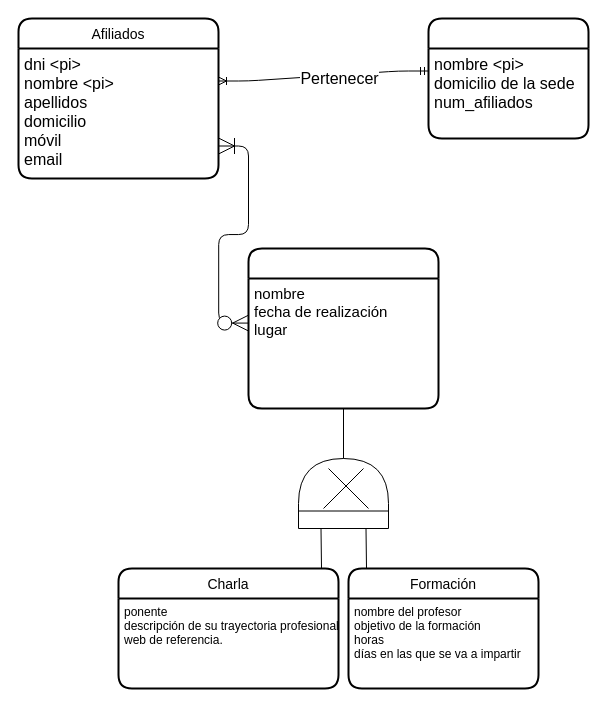
Some shapes in this 606 by 706 pixel diagram are drawn without their labels. Here are the shapes that lost their labels. From the top down, the box of each, then its label:
(427, 17, 589, 139): Sindicatos
(247, 247, 439, 409): Actividades
